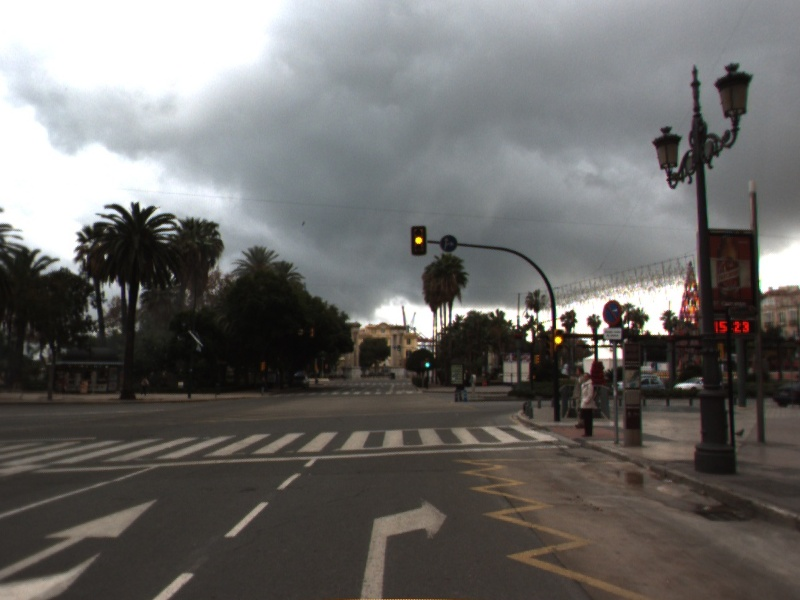RIGHT: (356, 491, 451, 600)
STRAIGHT_RIGHT: (1, 493, 163, 600)
